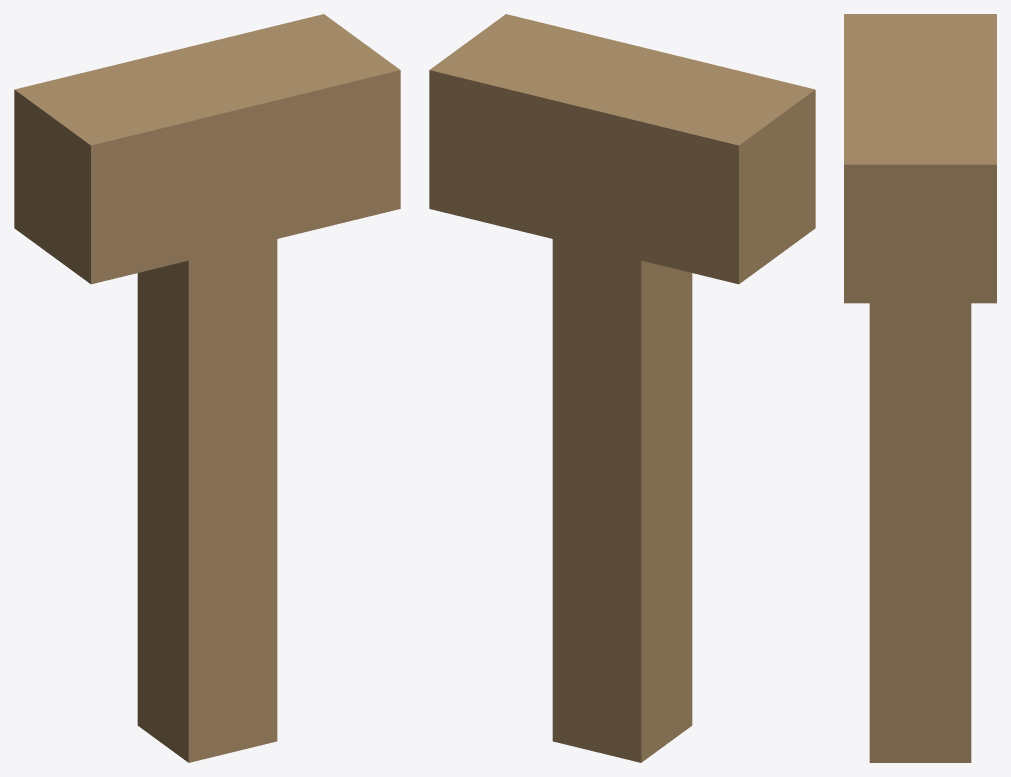
The model's file is 02_gavel.glb.
3 views of the same model, side by side, from view 1: azimuth 30°, elevation 25°; view 2: azimuth 150°, elevation 25°; view 3: azimuth 270°, elevation 25° (orthographic).
Parts seen in each view (by area): view 1: law_02_gavel; view 2: law_02_gavel; view 3: law_02_gavel.
Boxes of the visible parts, box(x1,y1,x2,y2) form: law_02_gavel: box(14, 14, 400, 762); law_02_gavel: box(429, 14, 815, 762); law_02_gavel: box(844, 14, 996, 762).
Bounding box in the file's own units: 0.28 × 0.565 × 0.12.
